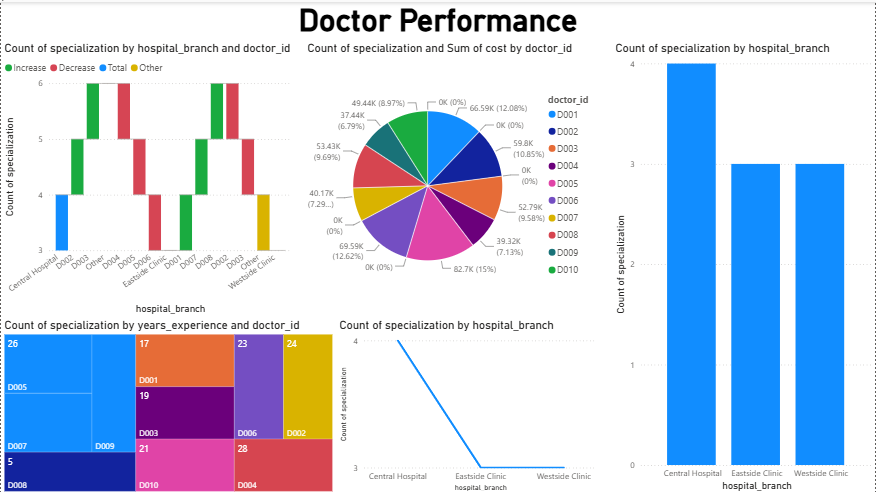

What the dashboard file says about the page in this screenshot:
{"tool":"powerbi","page":{"name":"Page 2","canvas":[1280,720],"ordinal":1},"visuals":[{"type":"textbox","title":"Doctor Performance","box":[409.9,0,460.3,57.1],"z":0},{"type":"waterfallChart","fields":{"Category":["doctors.hospital_branch"],"Breakdown":["doctors.doctor_id"],"Y":["CountNonNull(doctors.specialization)"]},"box":[0,57.1,430,404.8],"z":1000},{"type":"treemap","fields":{"Group":["doctors.years_experience"],"Details":["doctors.doctor_id"],"Values":["CountNonNull(doctors.specialization)"]},"box":[0,461.9,490.5,258.7],"z":2000},{"type":"pieChart","fields":{"Y":["CountNonNull(doctors.specialization)","Sum(treatments.cost)"],"Category":["doctors.doctor_id"]},"box":[443.5,57.1,440.1,404.8],"z":3000},{"type":"lineChart","fields":{"Category":["doctors.hospital_branch"],"Y":["CountNonNull(doctors.specialization)"]},"box":[490,462,393,258],"z":3001},{"type":"columnChart","fields":{"Category":["doctors.hospital_branch"],"Y":["CountNonNull(doctors.specialization)"]},"box":[893.6,57.1,386.4,663.5],"z":3002}]}

Visuals, with their boxes in screenshot pixels (x1, y1, x2, y2), scaled from the page's 1280x720 canvas onto the 876x492 screenshot:
"Doctor Performance" textbox: 281, 0, 596, 39
waterfallChart - doctors.hospital_branch x doctors.doctor_id: 0, 39, 294, 316
treemap - doctors.years_experience x doctors.doctor_id: 0, 316, 336, 491
pieChart - CountNonNull(doctors.specialization) x Sum(treatments.cost): 304, 39, 605, 316
lineChart - doctors.hospital_branch x CountNonNull(doctors.specialization): 335, 316, 604, 491
columnChart - doctors.hospital_branch x CountNonNull(doctors.specialization): 612, 39, 875, 491
